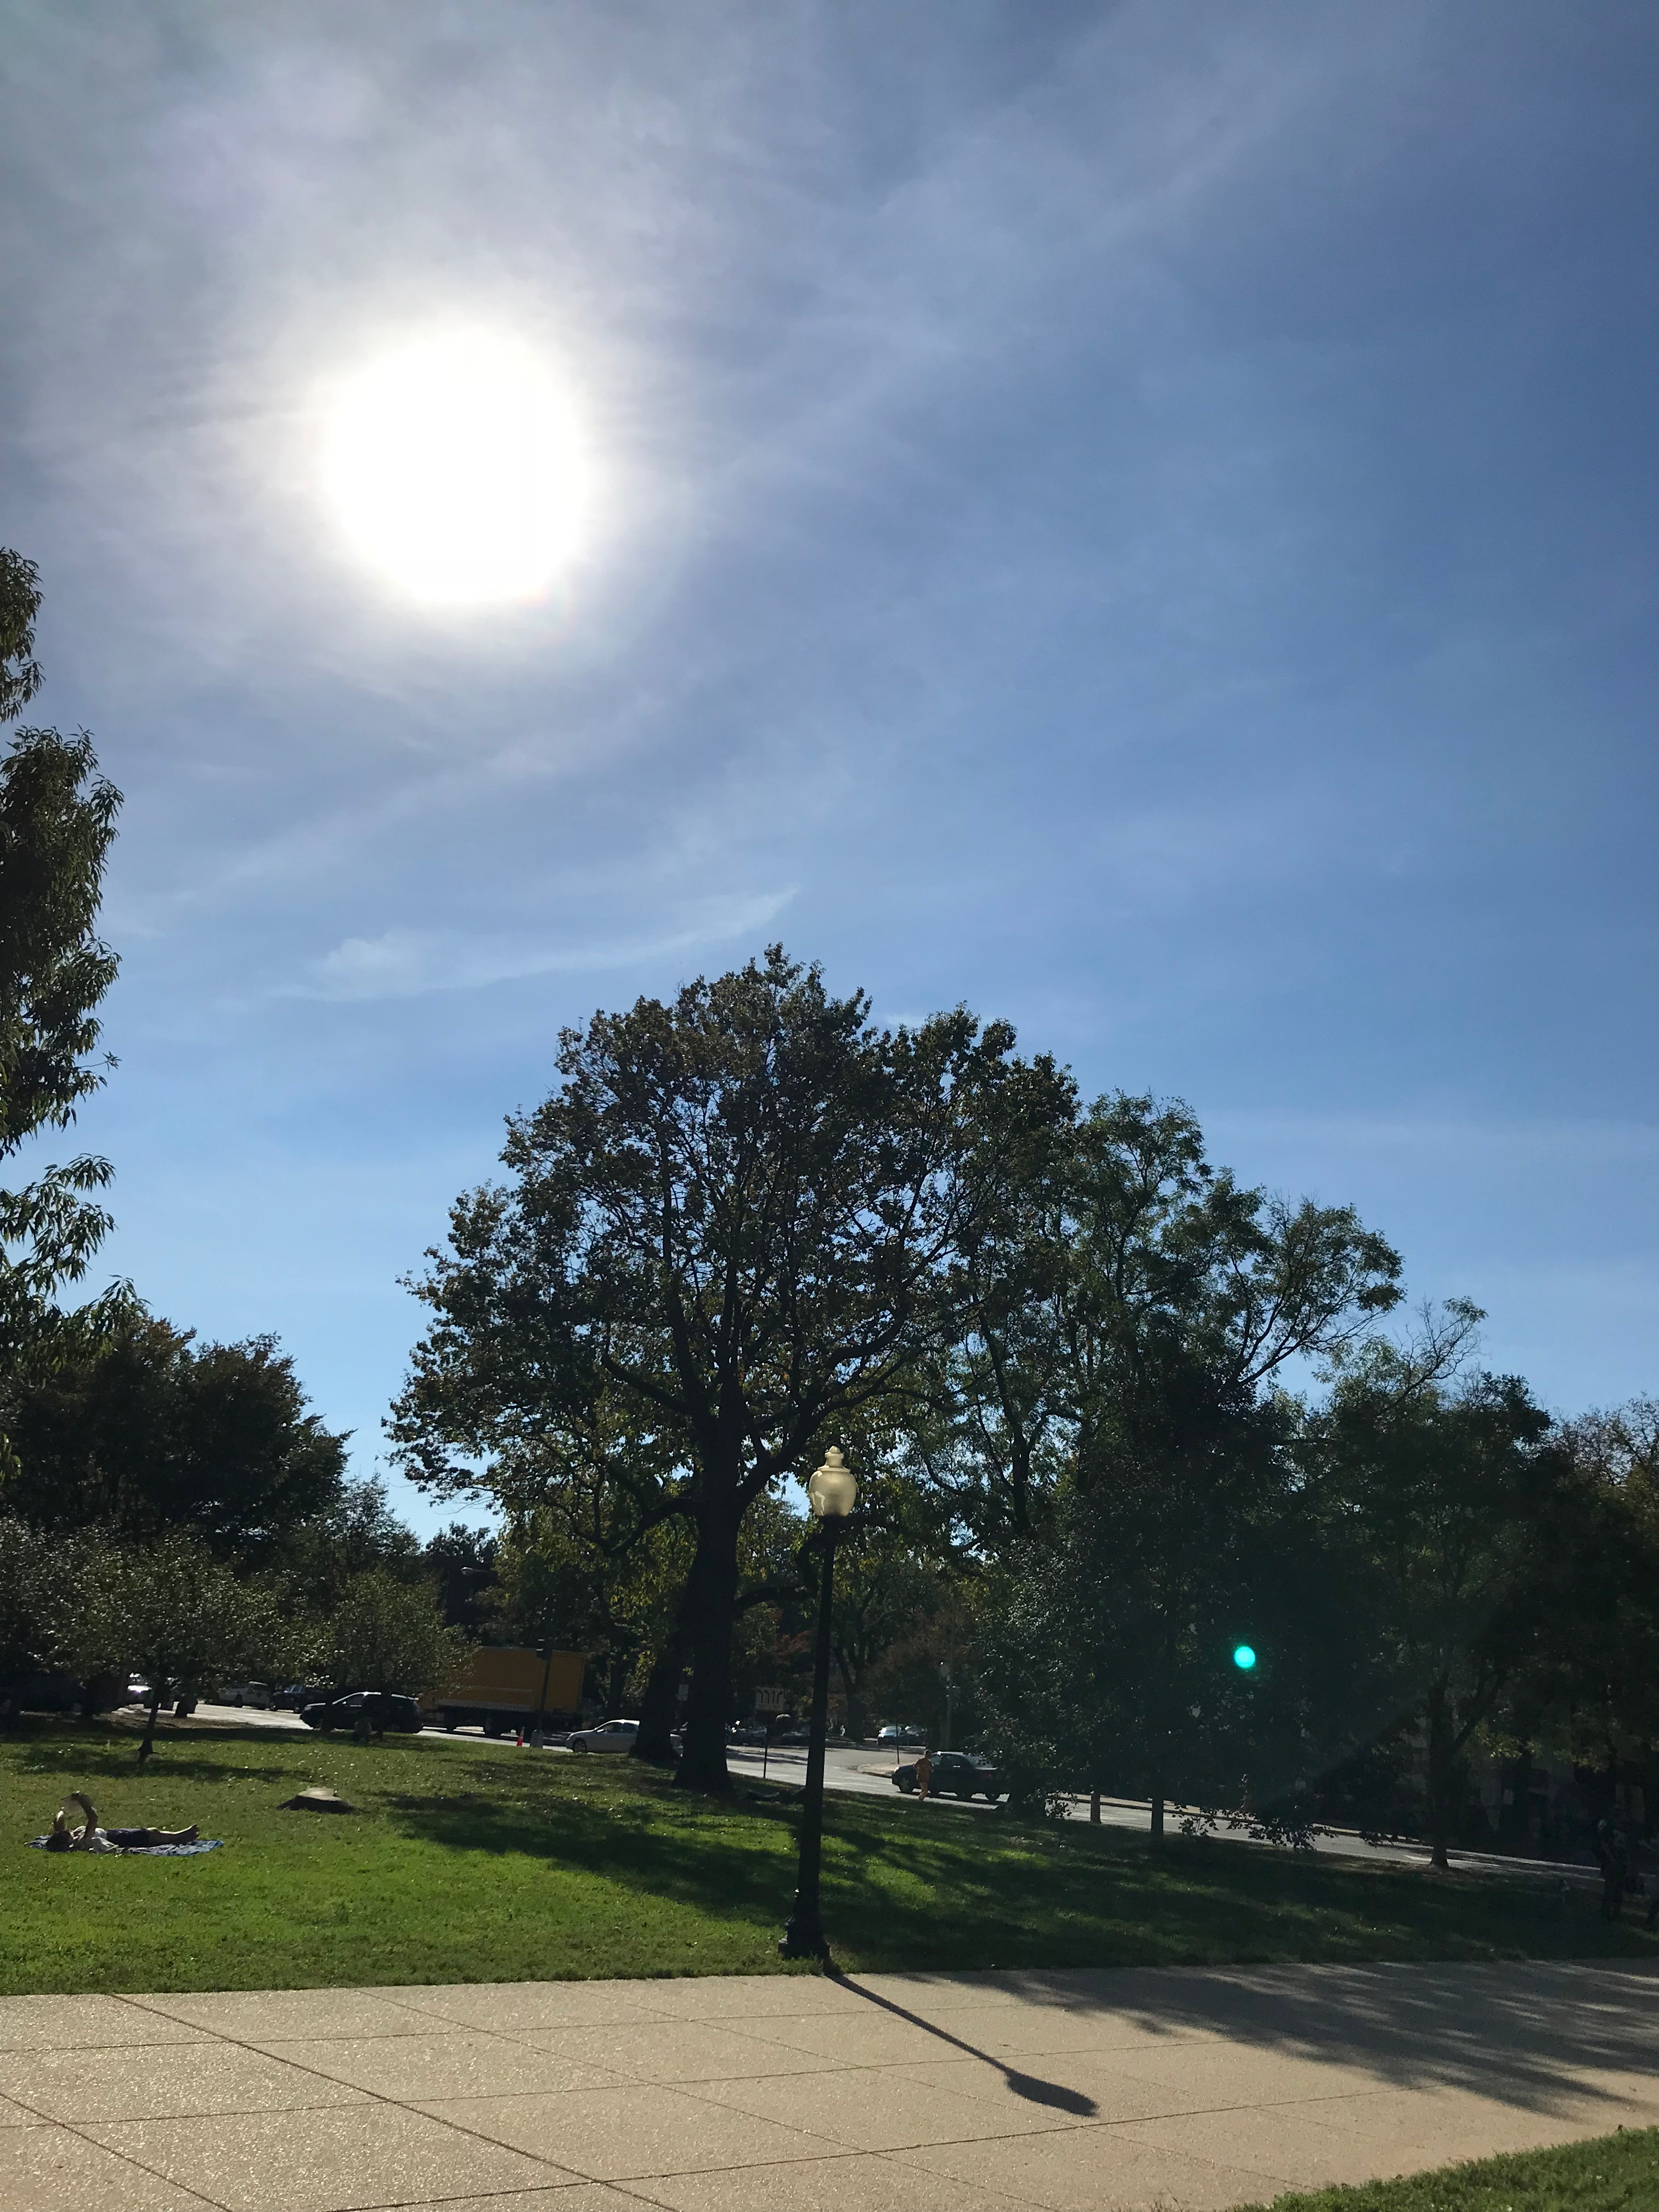flare: (1230, 1644, 1258, 1672)
